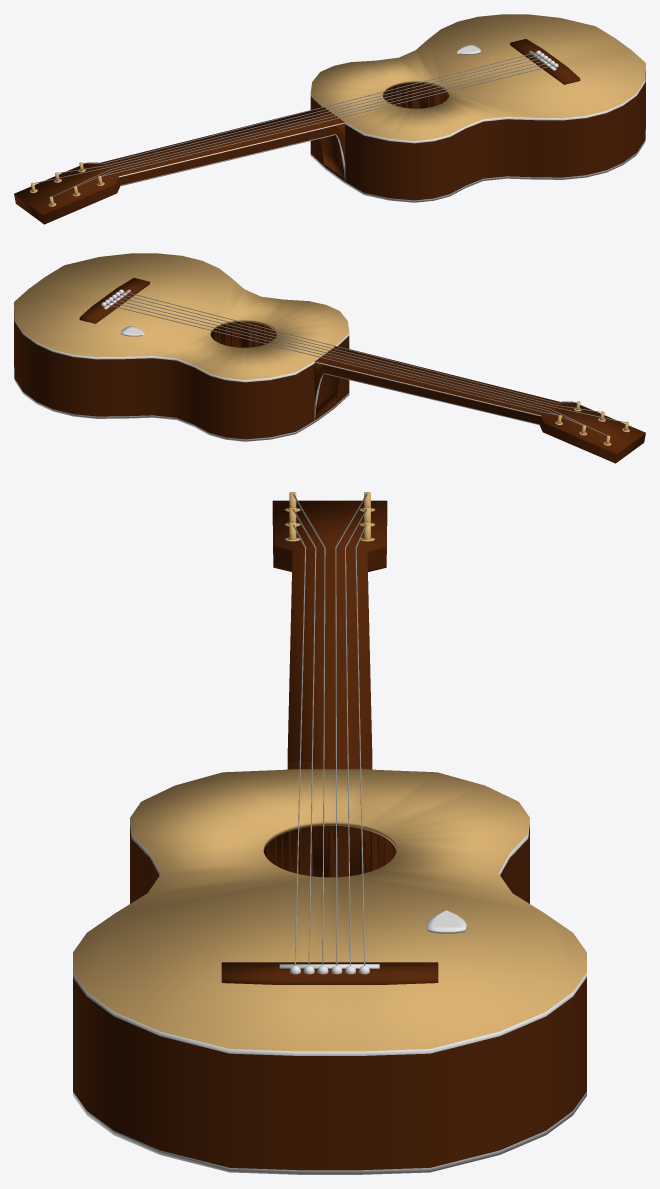
File: guitare+mediator.fbx
3 renders of one model, top to bottom at view 1: azimuth 30°, elevation 25°; view 2: azimuth 150°, elevation 25°; view 3: azimuth 270°, elevation 25°, orthographic. The views are drawn at different scales.
Visible parts, largest first — view 1: Plane, c4, c3, c5, c2, c1, c6; view 2: Plane, c3, c4, c2, c5, c1, c6; view 3: Plane.
Part boxes in pixels (x1,y1,x2,y2): Plane: (14,14,645,224); c4: (34,57,543,183); c3: (52,60,546,196); c5: (58,55,539,173); c2: (77,62,549,186); c1: (101,65,553,176); c6: (82,52,536,164); Plane: (14,253,645,463); c3: (117,296,625,422); c4: (113,299,606,435); c2: (120,294,601,412); c5: (110,301,582,425); c1: (123,291,577,403); c6: (106,304,558,415); Plane: (73,500,586,1174).
Bounding box in the file's own units: 98.84 × 10.68 × 37.
